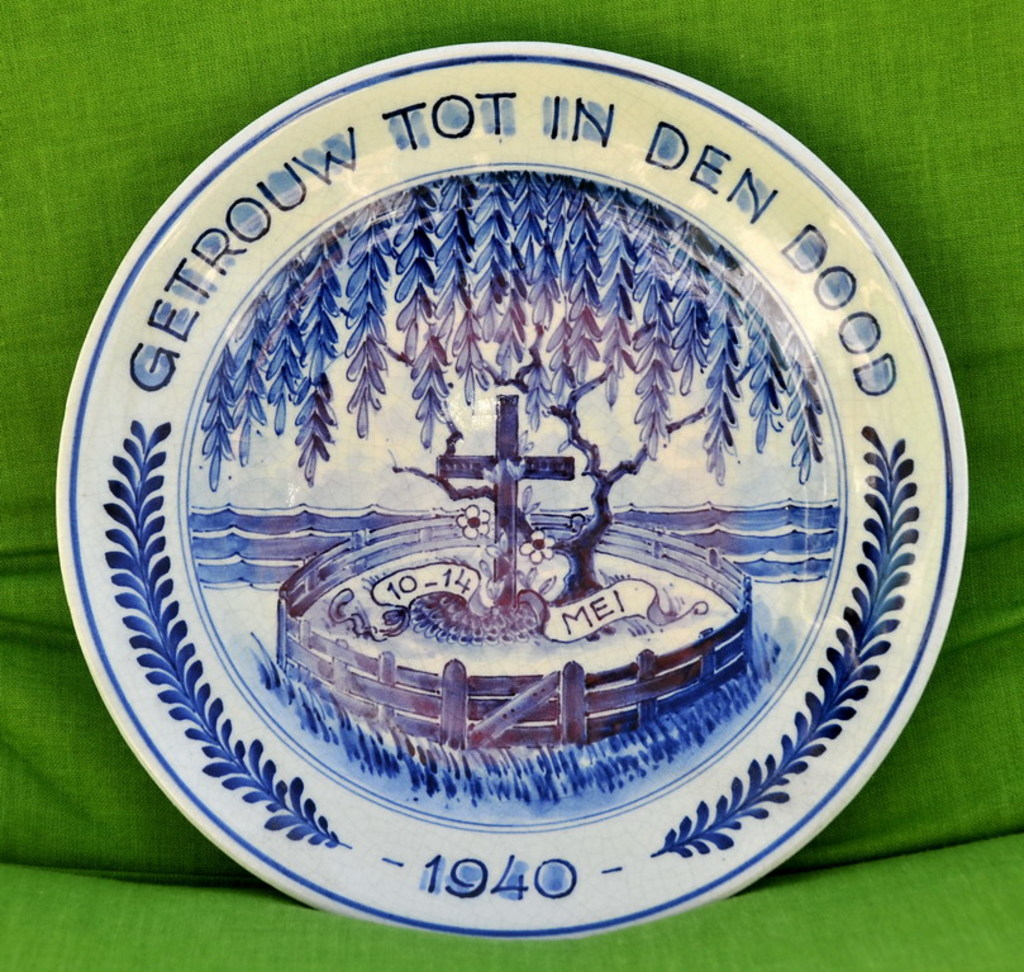plate: (88, 86, 941, 903)
